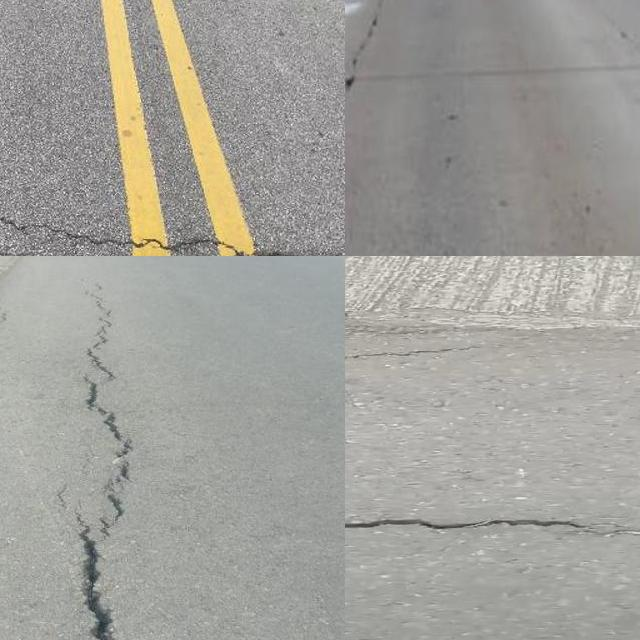Melintang: (0, 206, 345, 256), (345, 500, 640, 558)
Memanjang: (62, 285, 142, 640)
